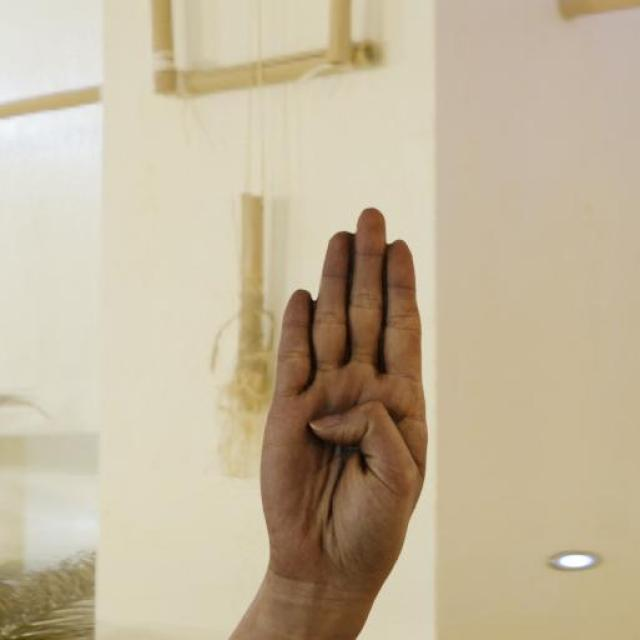B: (256, 204, 428, 586)
